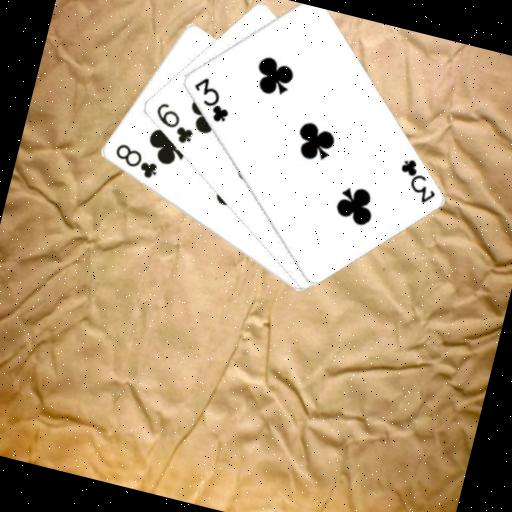3C: (183, 71, 238, 126), (389, 153, 444, 208)
6C: (147, 98, 201, 148)
8C: (107, 139, 164, 182)
